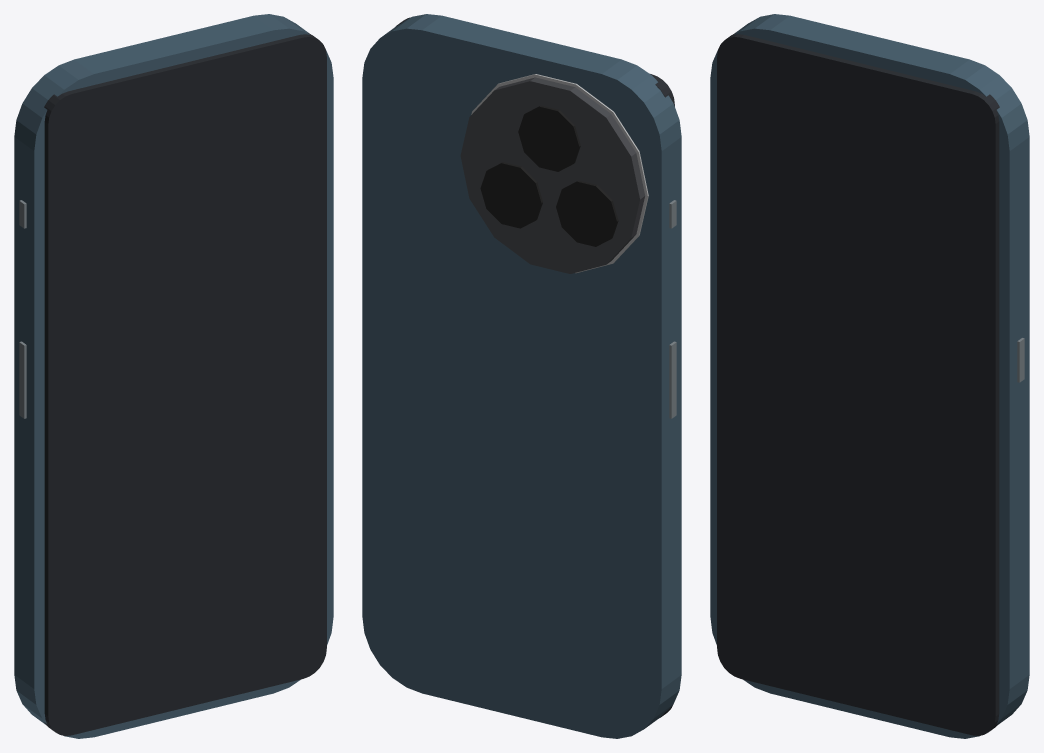
File: 38_oneplus_oneplus_13.glb
The picture shows the model from 3 angles, left to right: view 1: azimuth 30°, elevation 25°; view 2: azimuth 150°, elevation 25°; view 3: azimuth 330°, elevation 25°; orthographic projection.
Visible parts, largest first — view 1: geometry_1, geometry_0, geometry_3; view 2: geometry_0, geometry_6, geometry_8, geometry_10, geometry_12, geometry_7, geometry_3; view 3: geometry_1, geometry_0.
Boxes of the visible parts, x1,y1,x2,y2 form: geometry_1: (44,32,326,735); geometry_0: (14,14,333,738); geometry_3: (19,341,26,418); geometry_0: (362,14,681,738); geometry_6: (460,77,645,273); geometry_8: (518,105,580,171); geometry_10: (556,180,618,246); geometry_12: (480,162,542,228); geometry_7: (471,74,648,273); geometry_3: (669,341,676,418); geometry_1: (717,32,999,735); geometry_0: (710,14,1029,738).
Size of the model in its own units: 0.25 by 0.5231 by 0.0444.
